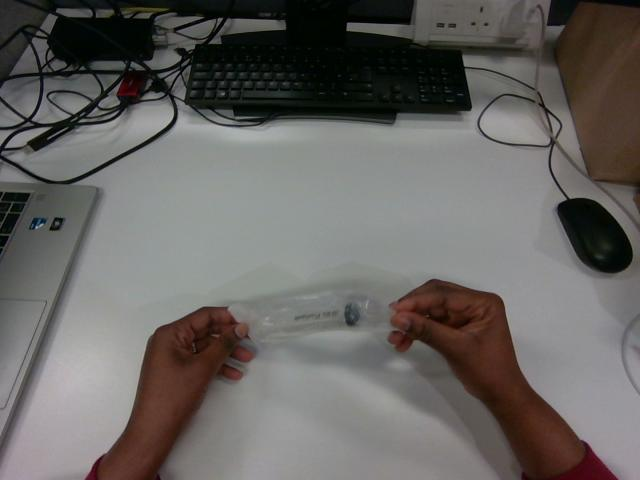syringe: (228, 291, 393, 343)
